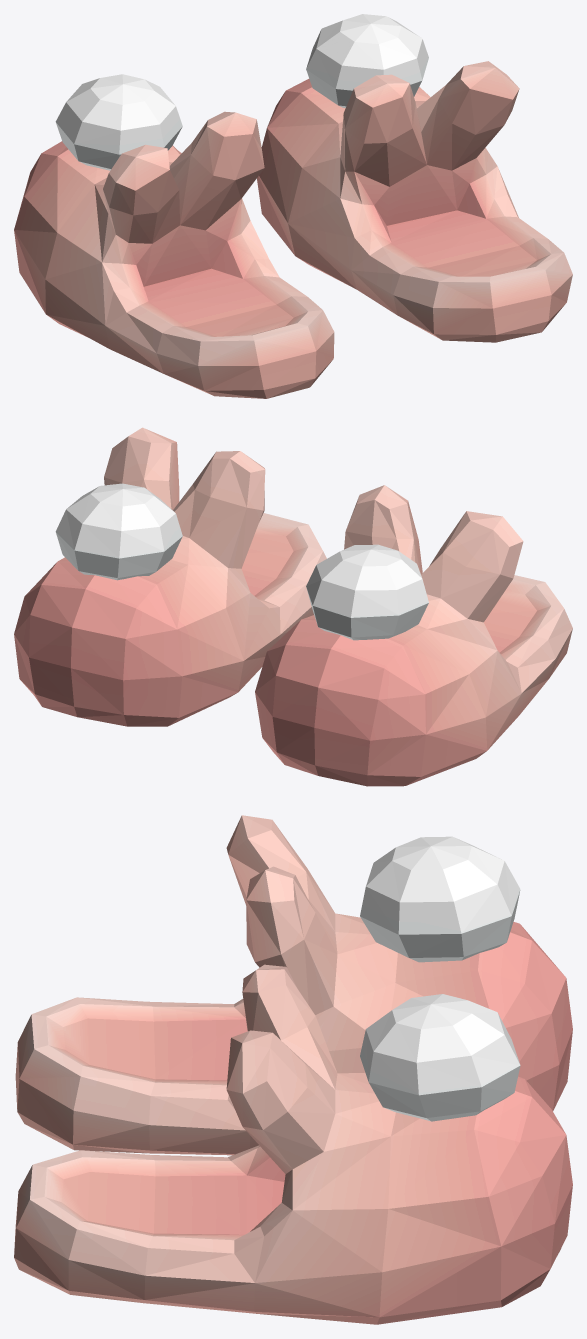
The model's file is CharSkyKid_Feet_BunnySlippers.glb.
The picture shows the model from 3 angles, top to bottom: view 1: azimuth 30°, elevation 25°; view 2: azimuth 150°, elevation 25°; view 3: azimuth 270°, elevation 25°; orthographic projection. The views are drawn at different scales.
Visible parts, largest first — view 1: CharSkyKid_Feet_BunnySlippers; view 2: CharSkyKid_Feet_BunnySlippers; view 3: CharSkyKid_Feet_BunnySlippers.
Boxes of the visible parts, x1,y1,x2,y2 form: CharSkyKid_Feet_BunnySlippers: (14,14,572,398); CharSkyKid_Feet_BunnySlippers: (14,427,572,786); CharSkyKid_Feet_BunnySlippers: (14,815,572,1324).
Bounding box in the file's own units: 3.32 × 1.51 × 2.78.
1 material, 1 textured.
